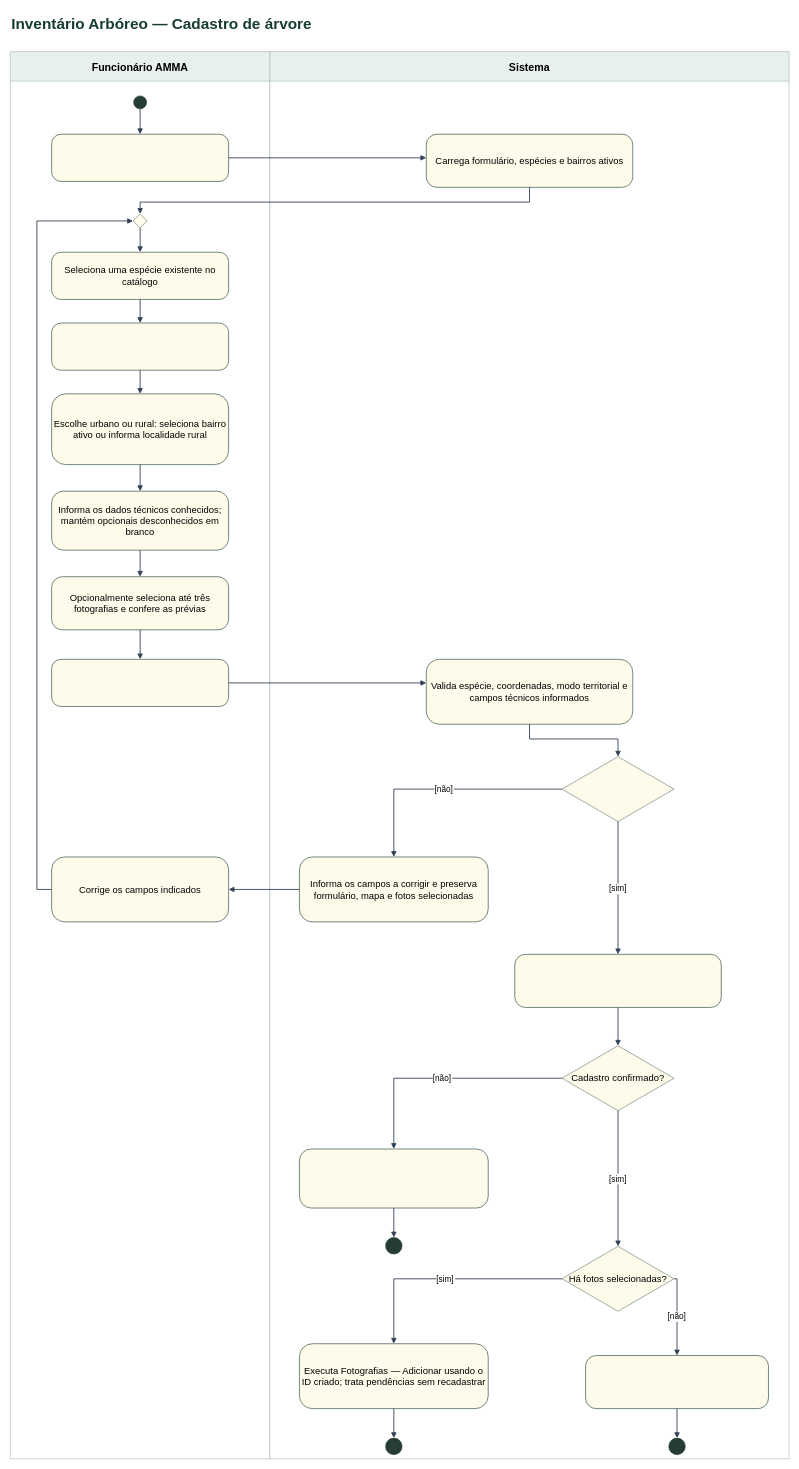
This 799x1469 diagram has some shape labels left out. Here are the shapes that lost their labels. From the top down, the centre of each, then its label:
At point 140,158: "Seleciona Nova árvore".
At point 140,346: "Marca a localização no mapa e confere as coordenadas".
At point 140,683: "Solicita o cadastro".
At point 617,789: "Dados válidos?".
At point 617,981: "Persiste a árvore e obtém o identificador permanente".
At point 393,1178: "Informa a falha e preserva os dados; não confirma sucesso".
At point 677,1382: "Abre a ficha técnica da árvore criada".
